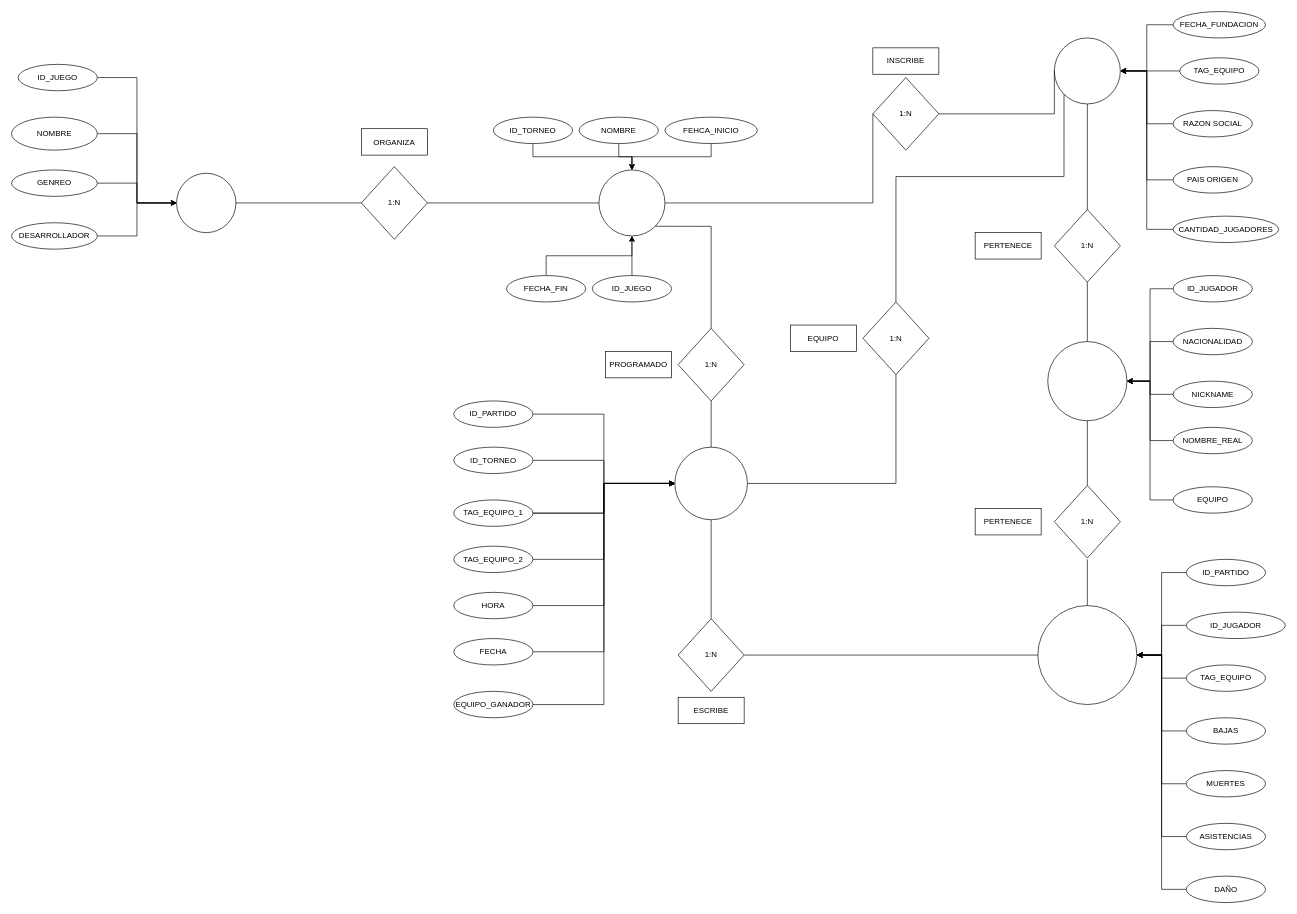
Some shapes in this 1297 by 914 pixel diagram are drawn without their labels. Here are the shapes that lost their labels. From the top down, the centre of each, then its label:
the point at 1087,70: EQUIPOS
the point at 206,203: VIDEOJUEGO
the point at 631,202: TORNEO
the point at 1087,381: JUGADORES
the point at 710,483: PARTIDO
the point at 1087,655: ESTADISTICAS_JUGADOR
